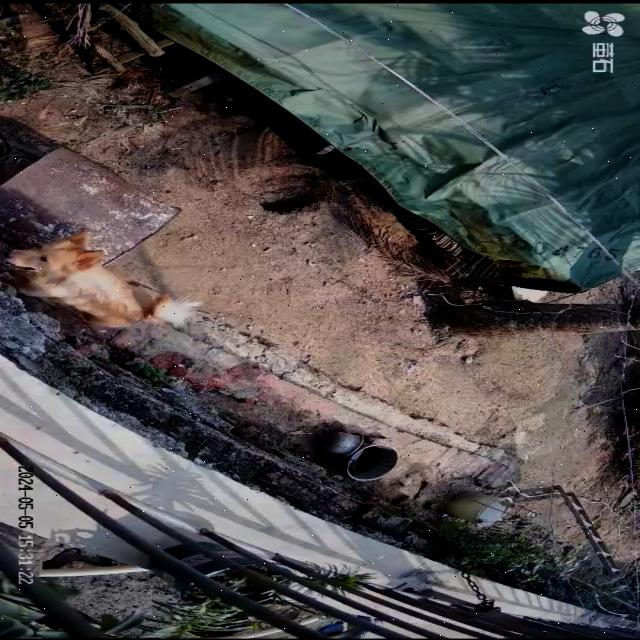dog: (4, 230, 204, 328)
